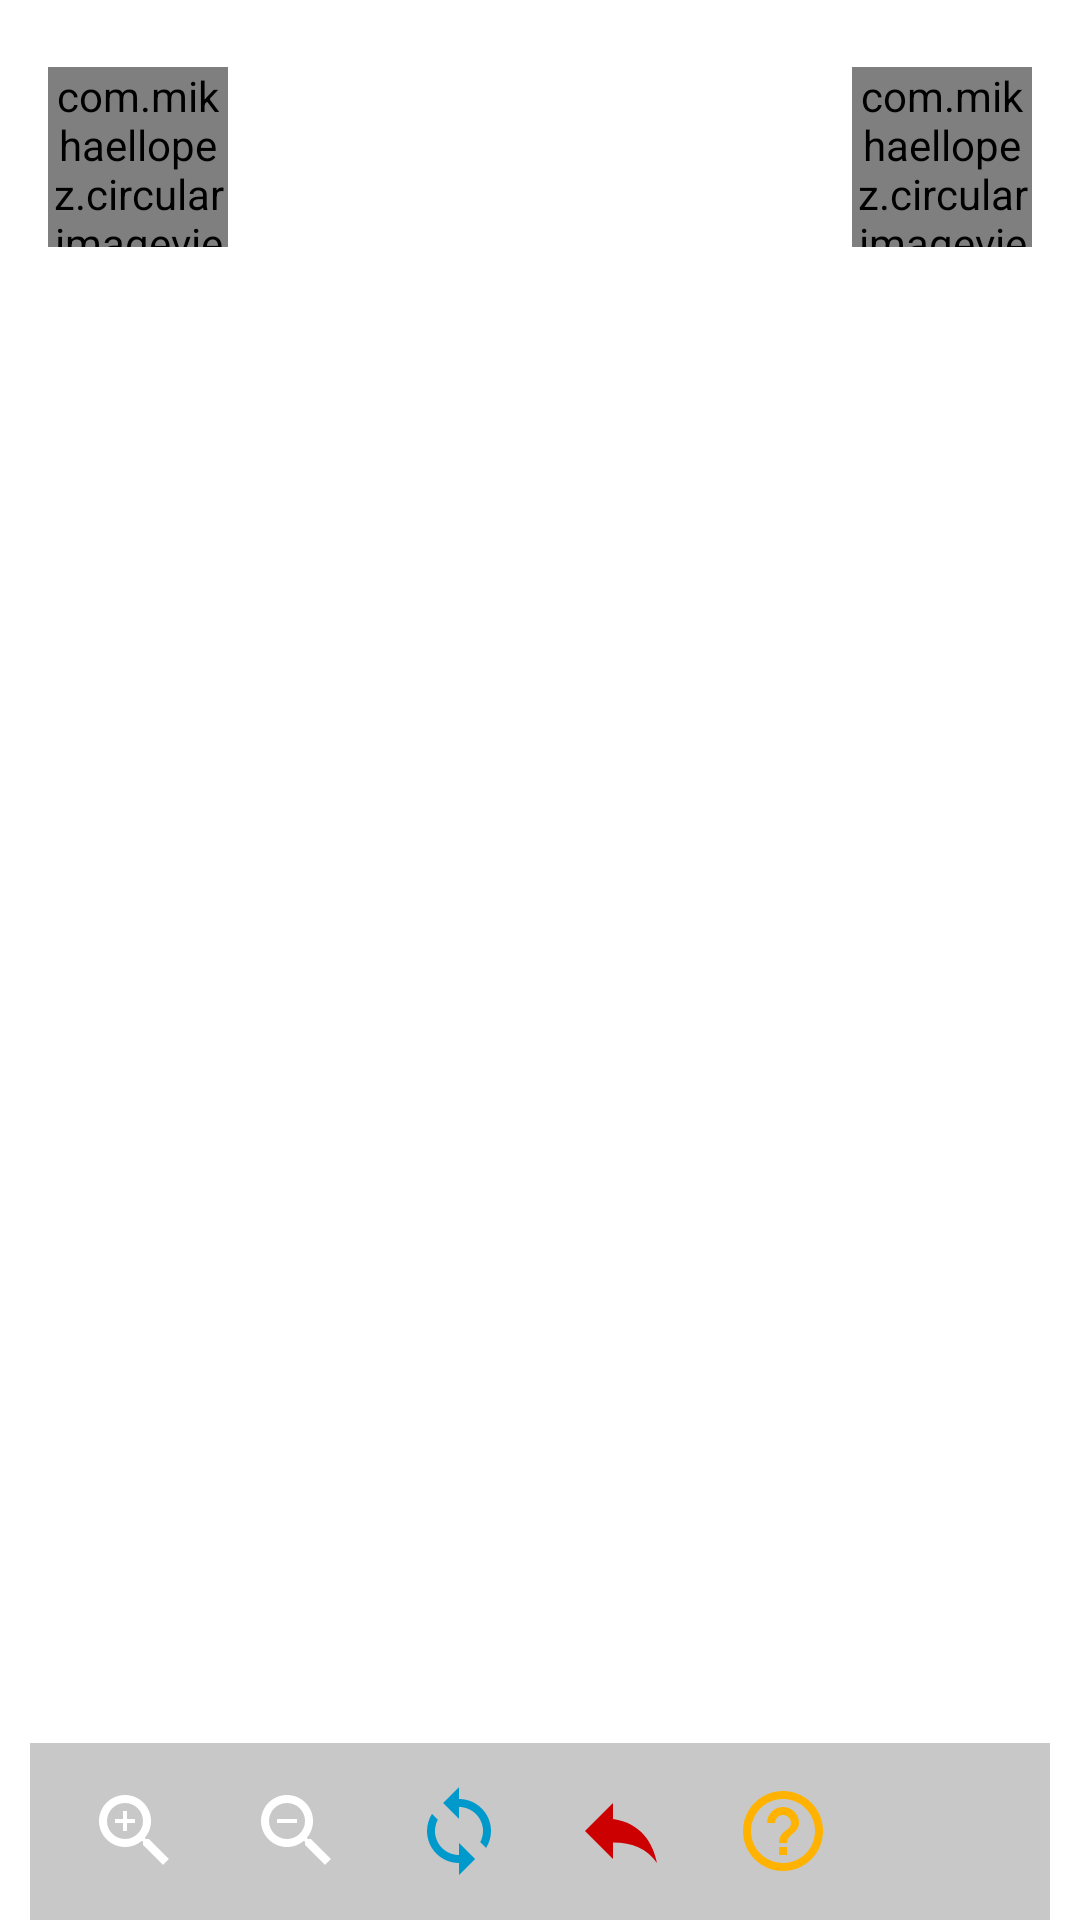

Locate icon controls on the screen. Image size 1080px x 1920px, boxes as box=[x1, y1, x2, y2].
help: box=[743, 1791, 823, 1871]
reply: box=[585, 1803, 657, 1863]
sync: box=[427, 1787, 491, 1875]
zoom in: box=[99, 1795, 168, 1864]
zoom out: box=[261, 1795, 330, 1864]
